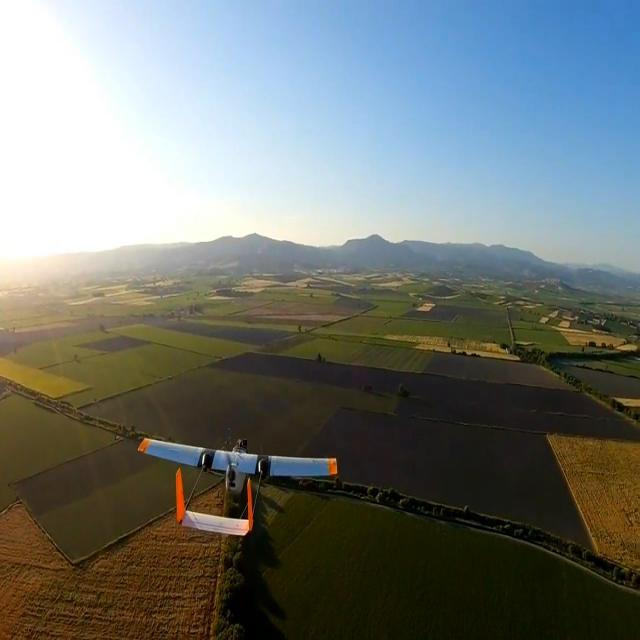iha: (130, 462, 345, 514)
